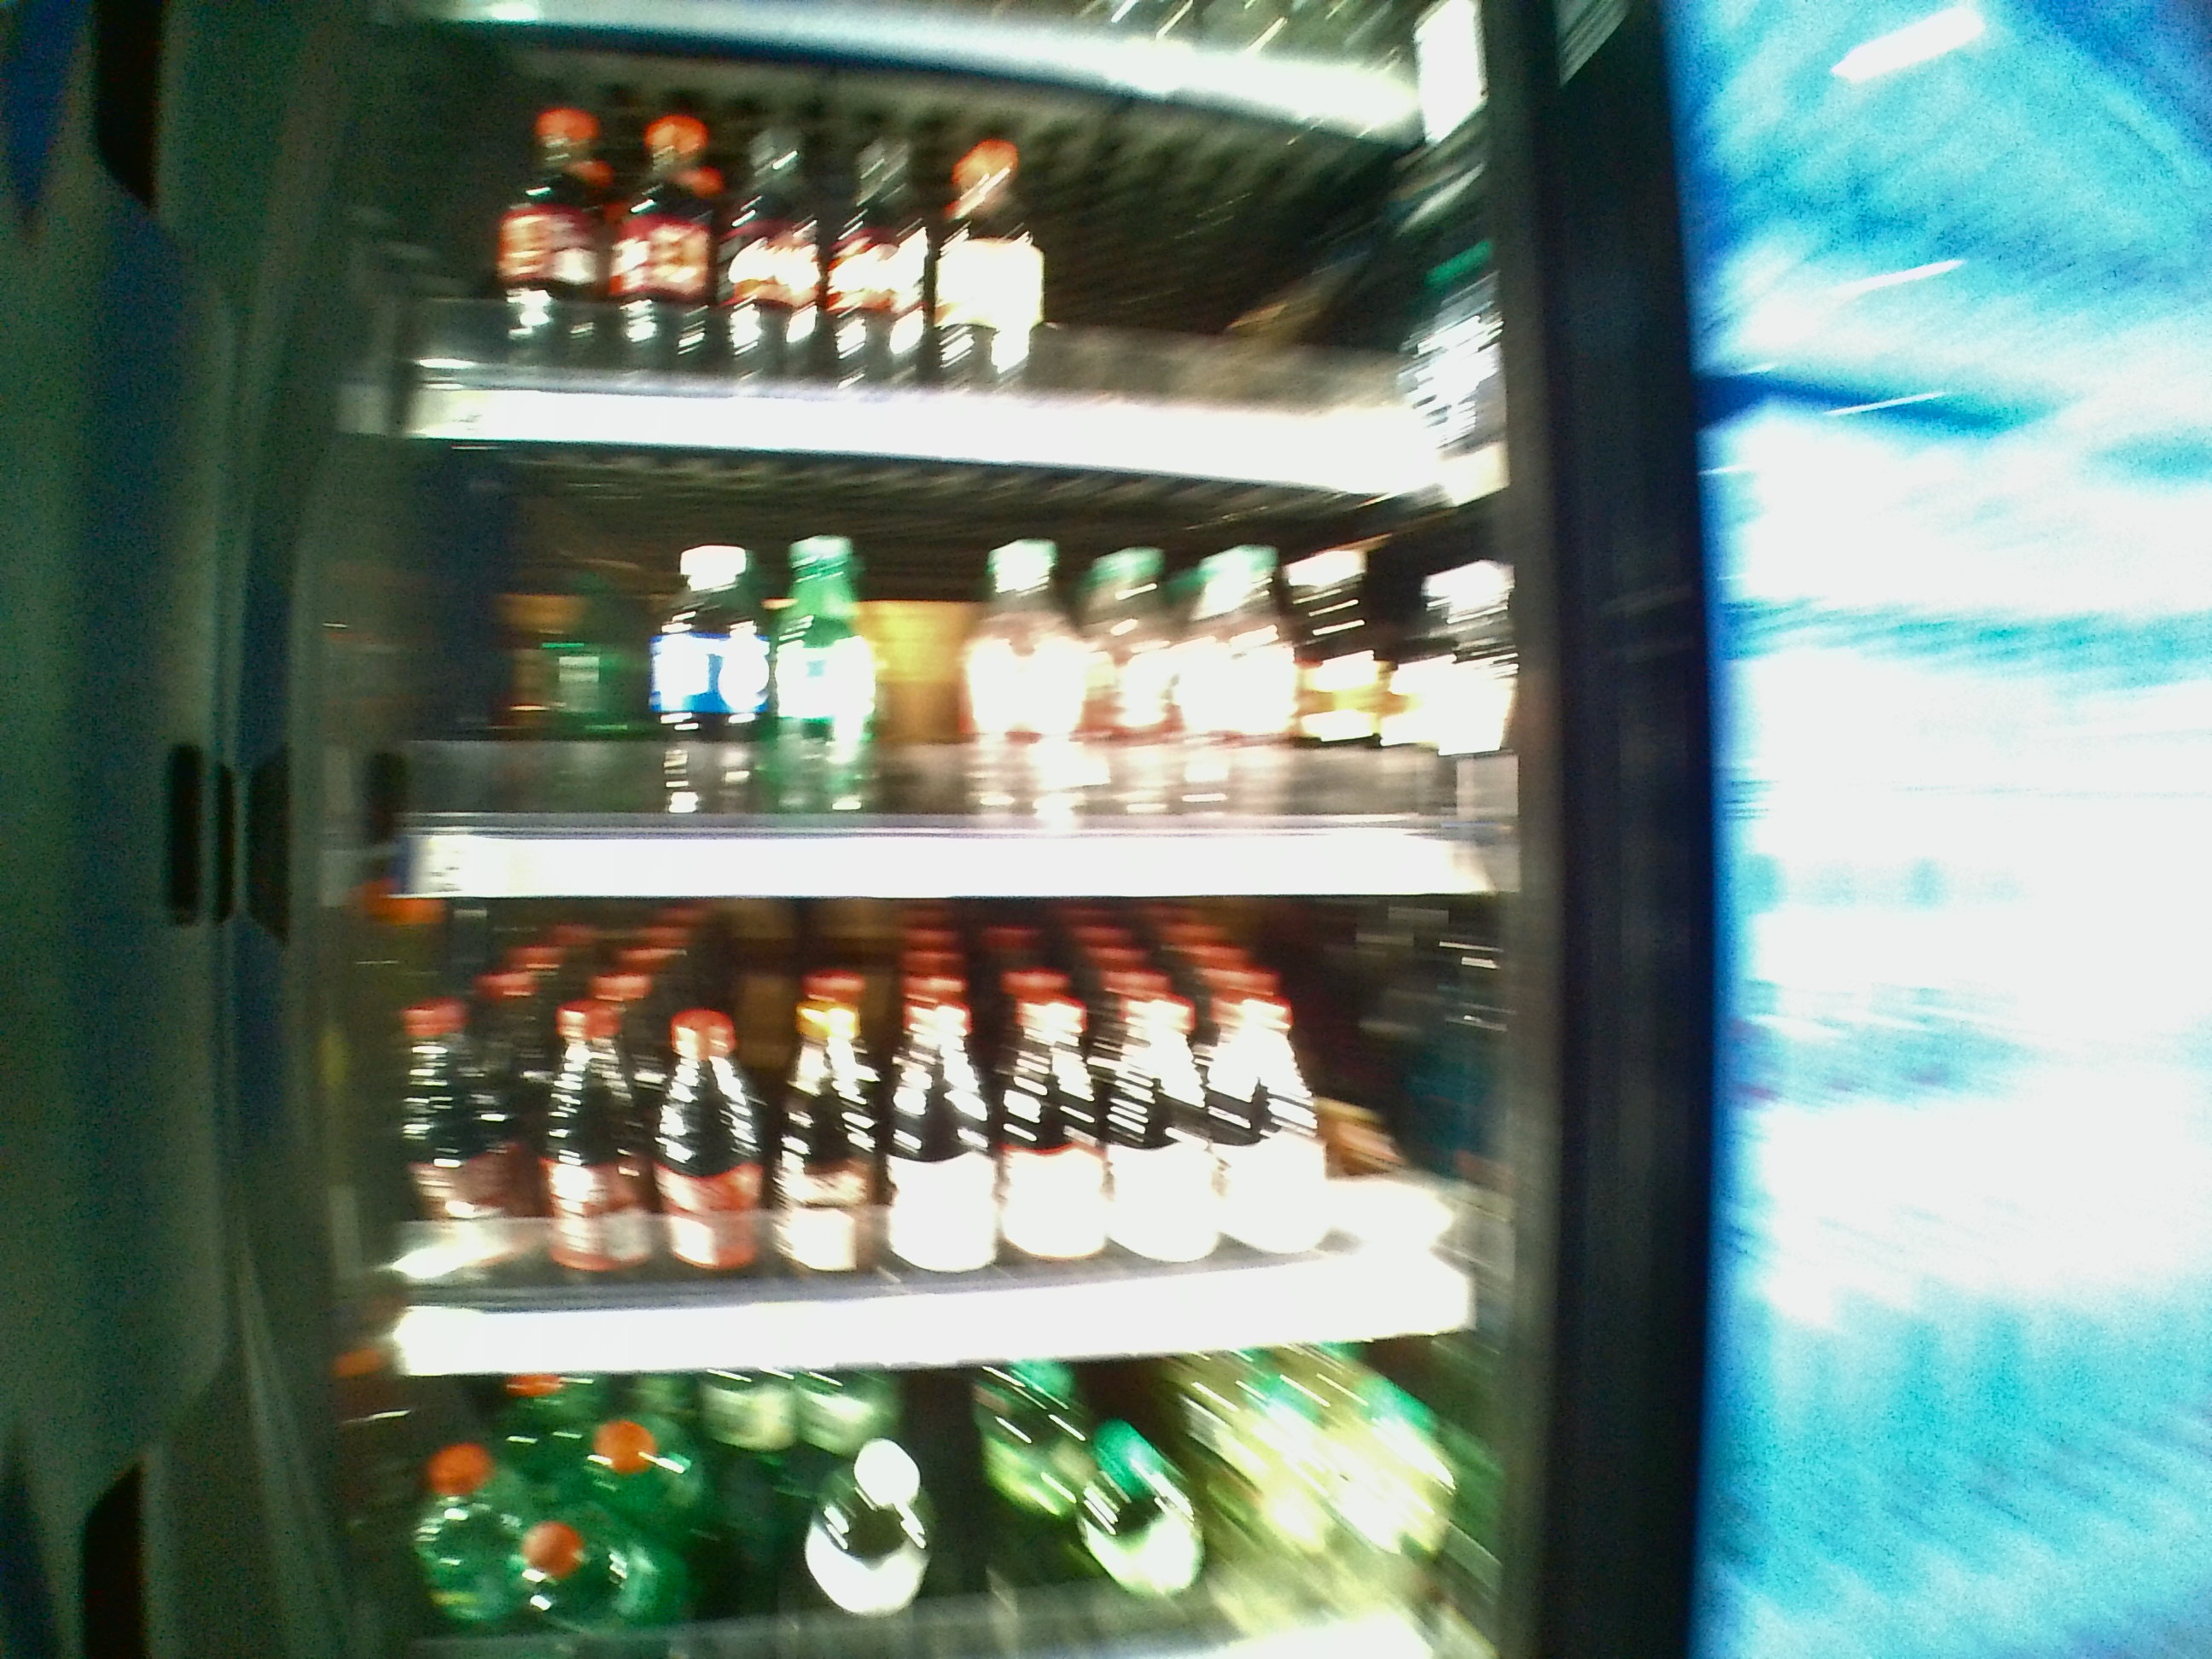Shelf: (366, 908, 1521, 1382), (364, 443, 1533, 904)
